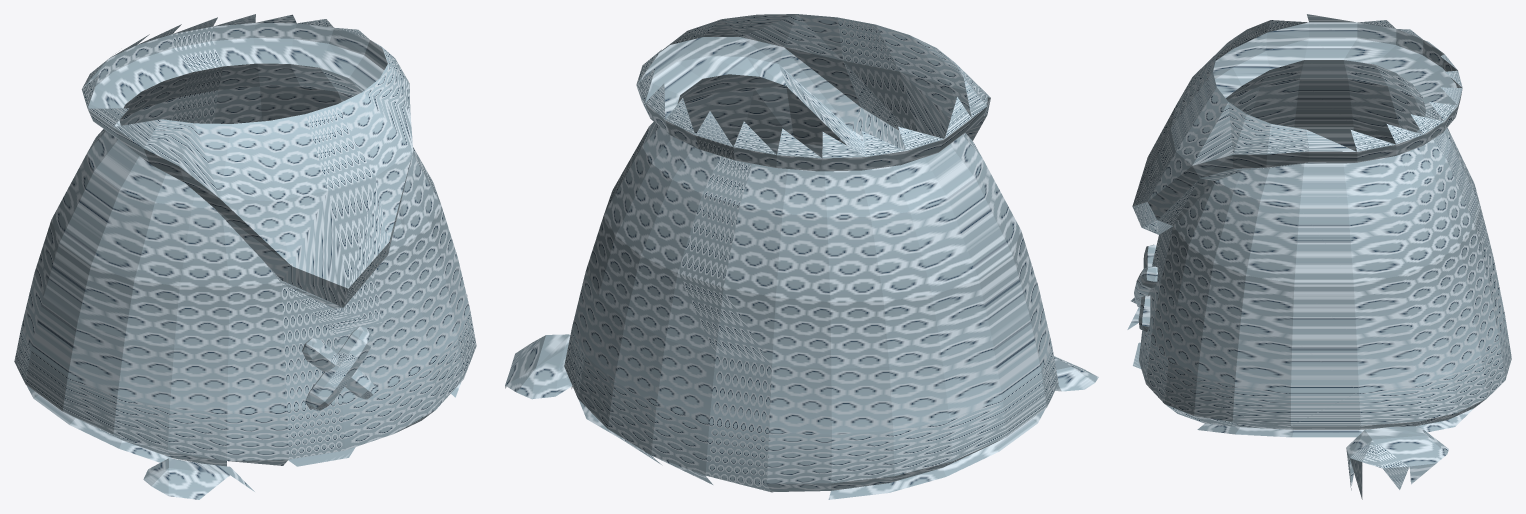
Rendered from hobbit_cota_3.glb.
3 renders of one model, left to right at view 1: azimuth 30°, elevation 25°; view 2: azimuth 150°, elevation 25°; view 3: azimuth 270°, elevation 25°, orthographic. The views are drawn at different scales.
Visible parts, largest first — view 1: hobbit_cota_3; view 2: hobbit_cota_3; view 3: hobbit_cota_3.
Part boxes in pixels (left/top/right/bottom): hobbit_cota_3: left=14, top=14, right=476, bottom=499; hobbit_cota_3: left=505, top=14, right=1098, bottom=499; hobbit_cota_3: left=1127, top=14, right=1511, bottom=499.
Bounding box in the file's own units: 0.9299 × 0.6723 × 0.7357.
Materials: 1 (1 with a texture image).
